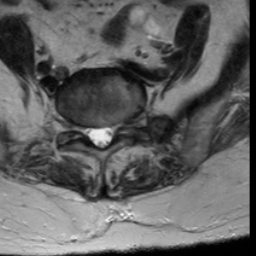CCS_normal: (96, 118, 104, 153)
LFS_stenosis: (115, 114, 126, 139)
LLS_normal: (106, 119, 115, 145)
RFS_stenosis: (74, 118, 85, 142)
RLS_normal: (86, 121, 95, 145)
